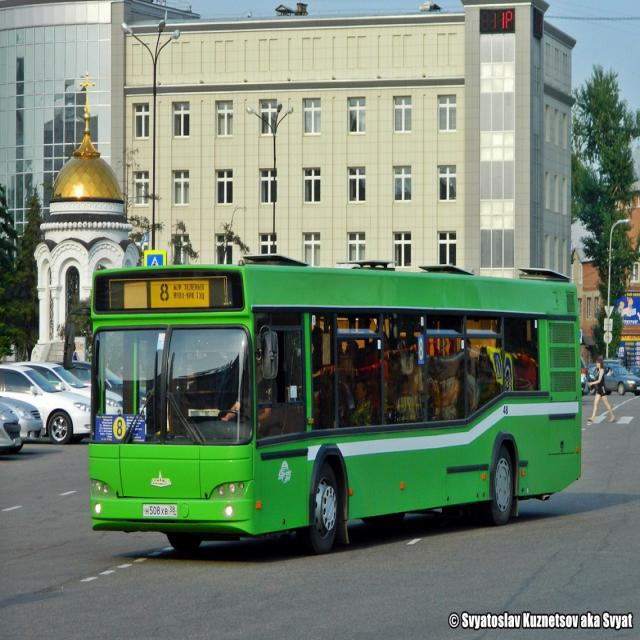number-of-bus: (160, 281, 172, 305), (114, 418, 126, 440)
